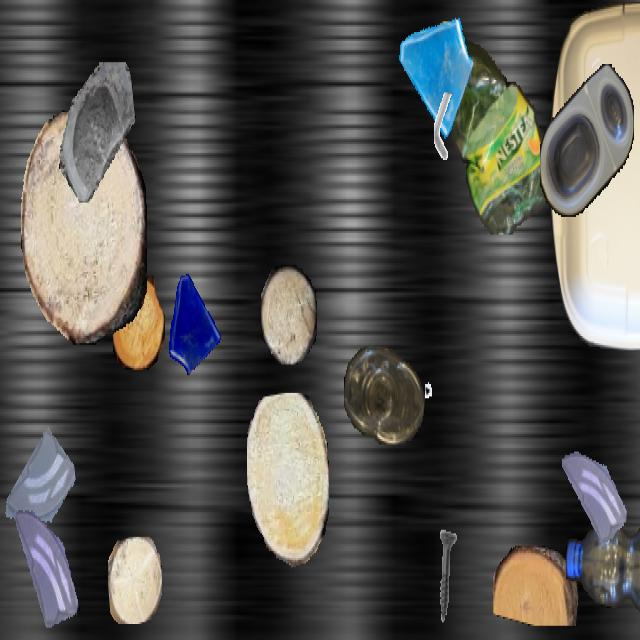glass: (57, 62, 135, 201), (395, 2, 473, 140), (8, 507, 82, 638), (3, 423, 75, 551), (562, 441, 626, 555), (163, 269, 223, 375)
metal: (418, 528, 474, 628), (424, 92, 464, 164), (425, 366, 463, 434)
plastic: (550, 2, 640, 350), (420, 21, 550, 235), (540, 64, 634, 217), (344, 347, 424, 442), (566, 519, 640, 615)
wood: (21, 109, 147, 343), (247, 393, 329, 567), (493, 546, 579, 624), (261, 265, 317, 364), (112, 276, 164, 368), (108, 537, 162, 622)
